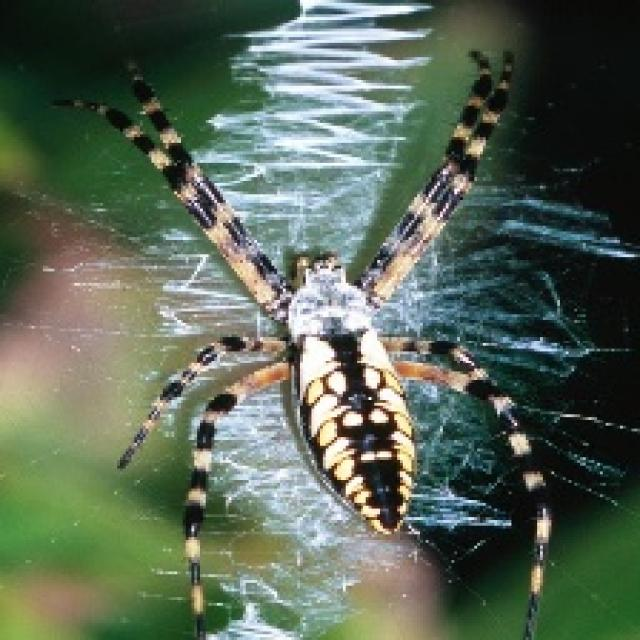Non venomous spider: (159, 154, 570, 564)
